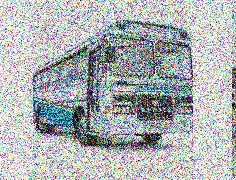bus: (32, 20, 192, 148)
